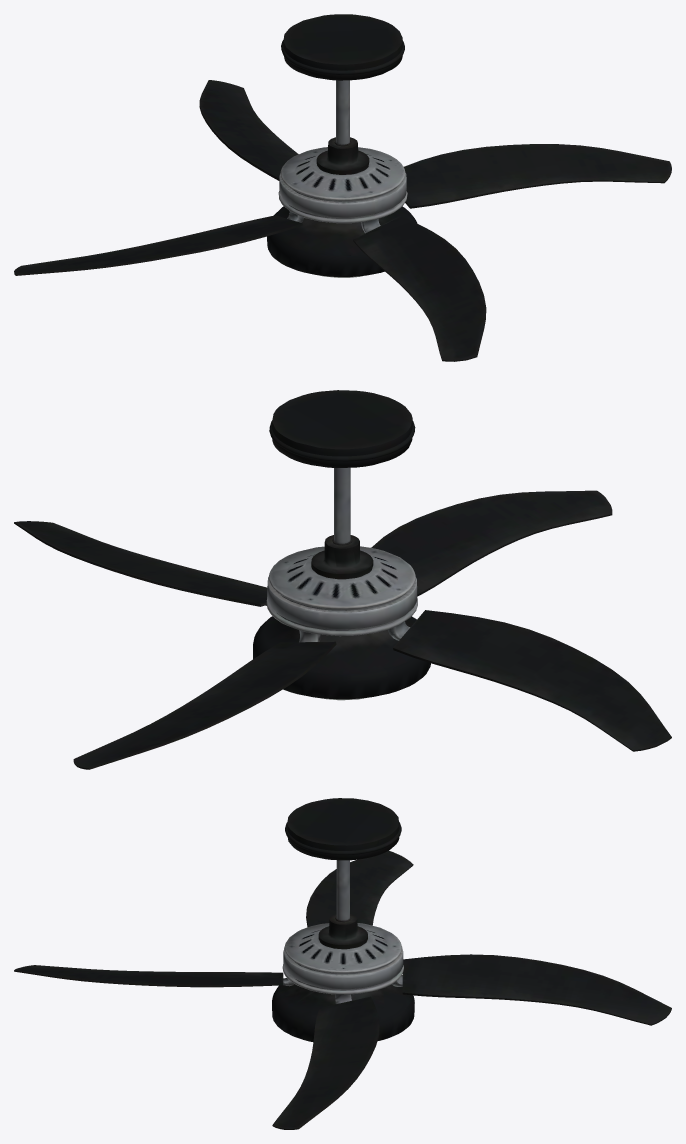
The model's file is ceiling_fan.glb.
3 renders of one model, top to bottom at view 1: azimuth 30°, elevation 25°; view 2: azimuth 150°, elevation 25°; view 3: azimuth 270°, elevation 25°, orthographic. The views are drawn at different scales.
Visible parts, largest first — view 1: ceiling_fan; view 2: ceiling_fan; view 3: ceiling_fan.
Part boxes in pixels (x1,y1,x2,y2): ceiling_fan: (14,14,671,361); ceiling_fan: (14,390,671,769); ceiling_fan: (14,798,671,1129).
Bounding box in the file's own units: 1.46 × 0.5163 × 1.46.
1 material, 1 textured.
